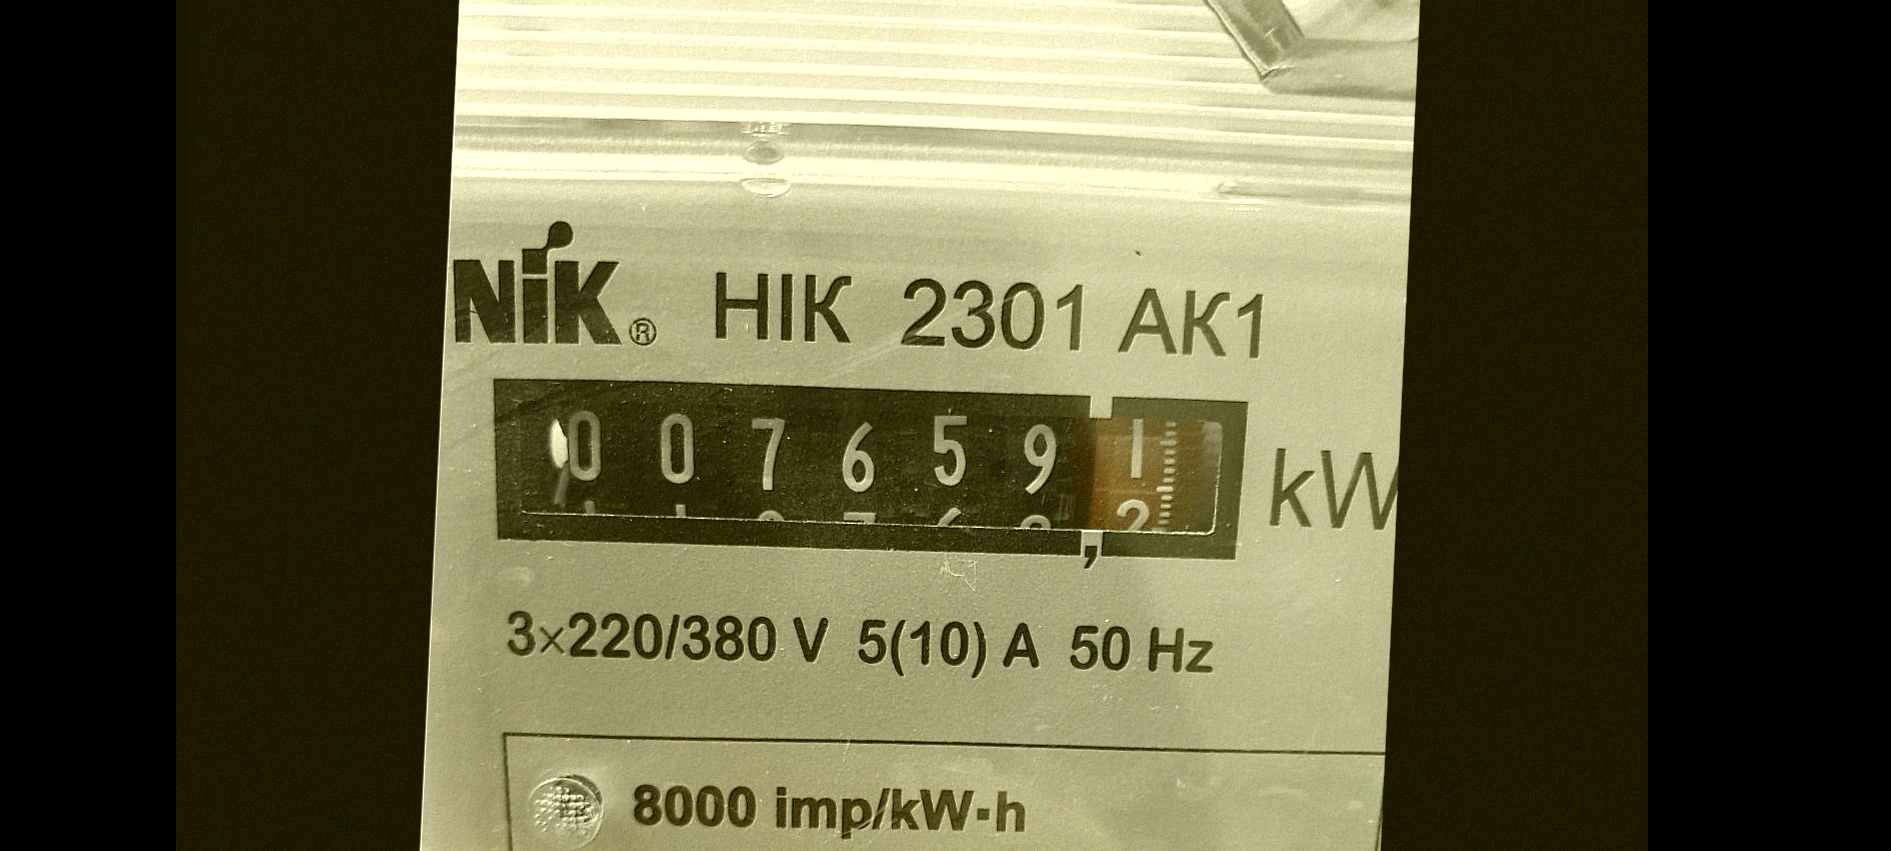0: (646, 403, 706, 491), (558, 400, 611, 492)
1: (1122, 411, 1158, 488)
5: (925, 407, 974, 492)
6: (831, 413, 886, 498)
7: (744, 410, 790, 497)
9: (1017, 415, 1062, 505)
screen: (467, 345, 1270, 595)
